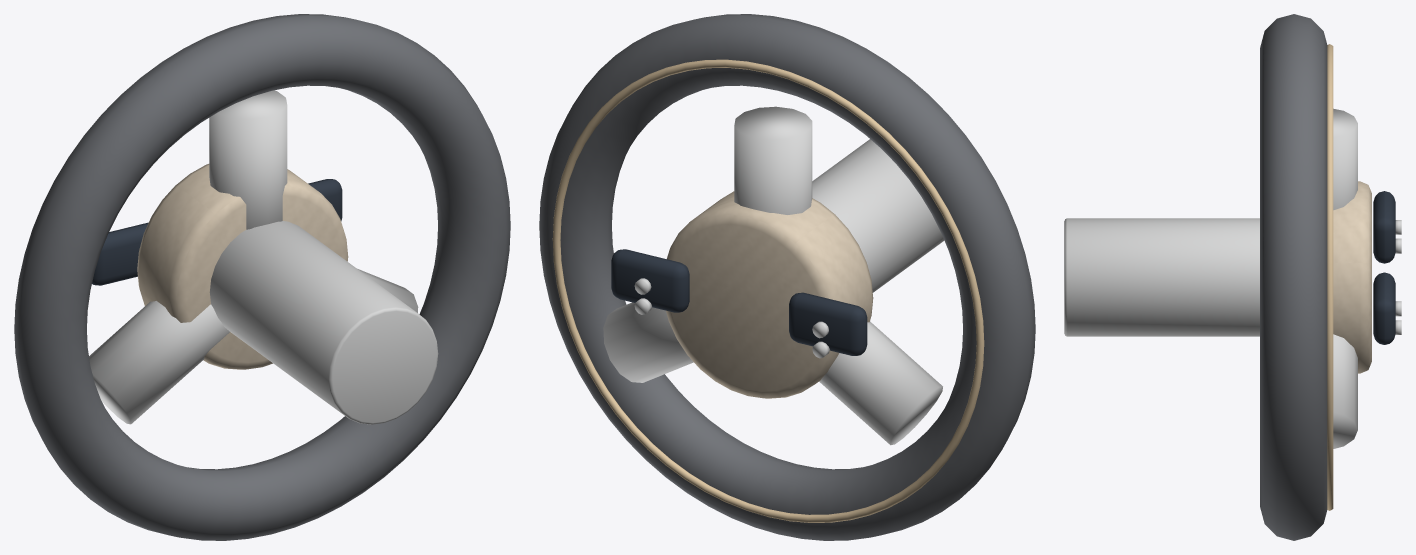
Rendered from r51-steering-wheel.glb.
3 renders of one model, left to right at view 1: azimuth 30°, elevation 25°; view 2: azimuth 150°, elevation 25°; view 3: azimuth 270°, elevation 25°, orthographic. The views are drawn at different scales.
Visible parts, largest first — view 1: steering-wheel__DarkLeather, steering-wheel__BrushedMetal, steering-wheel__IvoryLeather, steering-wheel__DisplayGlass; view 2: steering-wheel__DarkLeather, steering-wheel__BrushedMetal, steering-wheel__IvoryLeather, steering-wheel__SaddleThread, steering-wheel__DisplayGlass; view 3: steering-wheel__DarkLeather, steering-wheel__BrushedMetal, steering-wheel__IvoryLeather, steering-wheel__SaddleThread, steering-wheel__DisplayGlass.
Part boxes in pixels (x1,y1,x2,y2): steering-wheel__DarkLeather: (14, 14, 510, 540); steering-wheel__BrushedMetal: (89, 90, 438, 424); steering-wheel__IvoryLeather: (137, 164, 348, 369); steering-wheel__DisplayGlass: (92, 179, 342, 285); steering-wheel__DarkLeather: (539, 14, 1035, 540); steering-wheel__BrushedMetal: (603, 106, 944, 445); steering-wheel__IvoryLeather: (666, 191, 873, 398); steering-wheel__SaddleThread: (552, 59, 984, 522); steering-wheel__DisplayGlass: (611, 249, 867, 355); steering-wheel__DarkLeather: (1260, 14, 1327, 540); steering-wheel__BrushedMetal: (1064, 108, 1401, 448); steering-wheel__IvoryLeather: (1333, 181, 1371, 373); steering-wheel__SaddleThread: (1327, 44, 1333, 510); steering-wheel__DisplayGlass: (1373, 191, 1395, 344).
Size of the model in its own units: 0.356 by 0.356 by 0.2275.
Materials: 5 (1 with a texture image).
